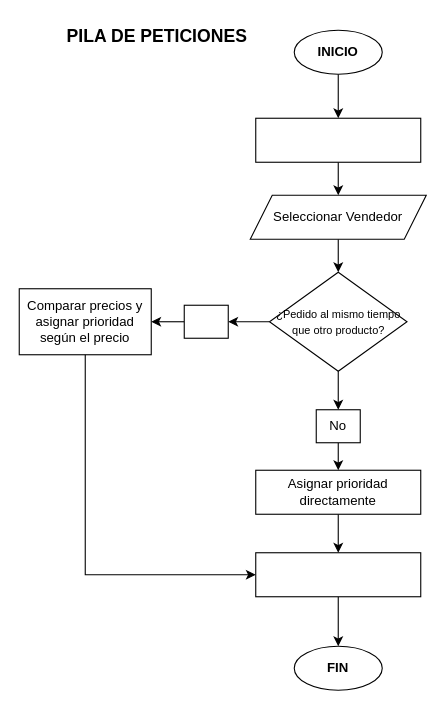
Some shapes in this 446 by 710 pixel diagram are drawn without their labels. The shapes that lost their labels are listed below. From the top down, each one's centre as x and y in pixels, then its label:
the point at 338,139: Nueva Petición de Producto
the point at 205,321: Sí
the point at 338,574: Agregar a la pila de peticiones
